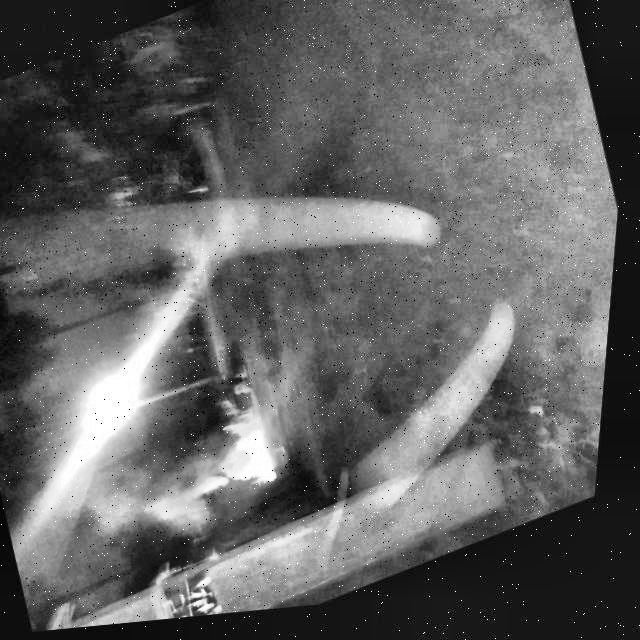Fire: (222, 421, 290, 506)
